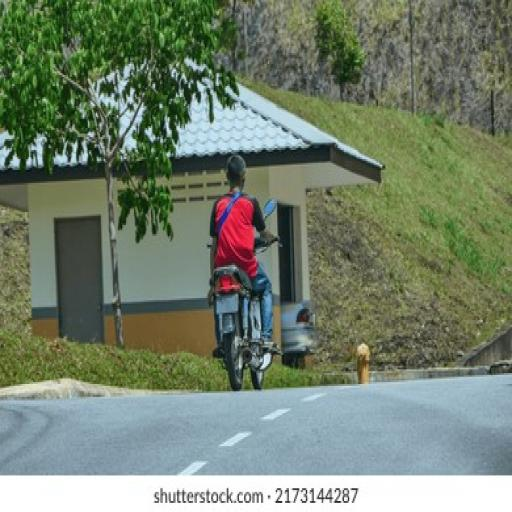no_helm: (218, 140, 256, 196)
